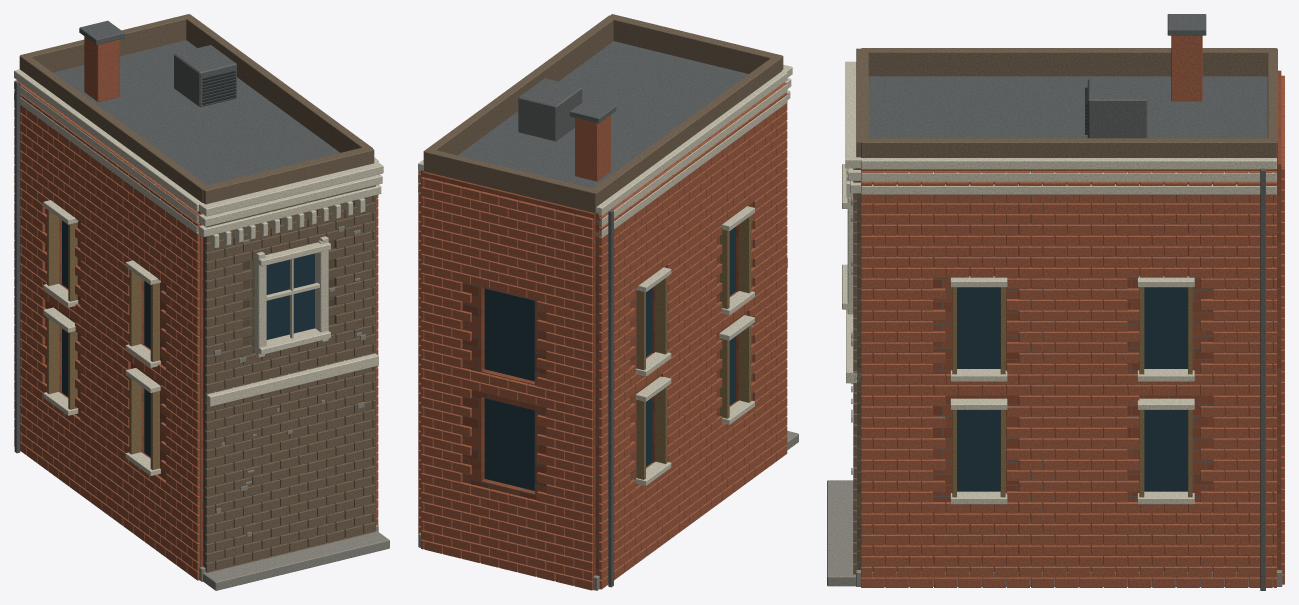
The model's file is WHSE13_lod0.glb.
The picture shows the model from 3 angles, left to right: view 1: azimuth 30°, elevation 25°; view 2: azimuth 150°, elevation 25°; view 3: azimuth 270°, elevation 25°; orthographic projection. The views are drawn at different scales.
Visible parts, largest first — view 1: WHSE13_LOD0; view 2: WHSE13_LOD0; view 3: WHSE13_LOD0.
Boxes of the visible parts, box(x1,y1,x2,y2) form: WHSE13_LOD0: box(14, 14, 389, 590); WHSE13_LOD0: box(418, 14, 798, 590); WHSE13_LOD0: box(827, 14, 1284, 590).
Size of the model in its own units: 3.71 by 7.85 by 6.6.
Materials: 15 (13 with a texture image).
